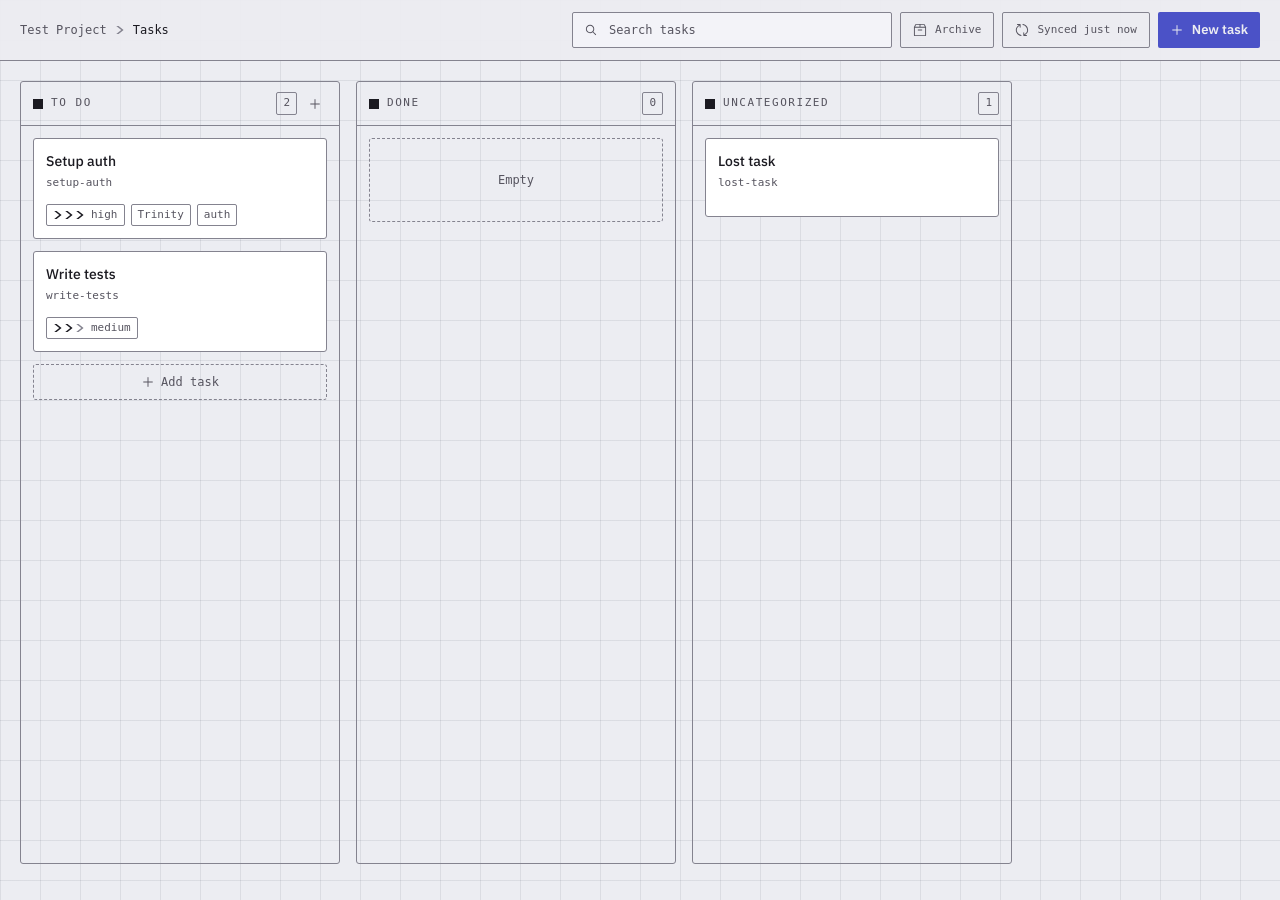
Scenario: Board › adds a task update from writable detail mode
The image size is (1280, 900).
Click the heading "Setup auth" at x=81, y=161, box [46, 152, 116, 170]
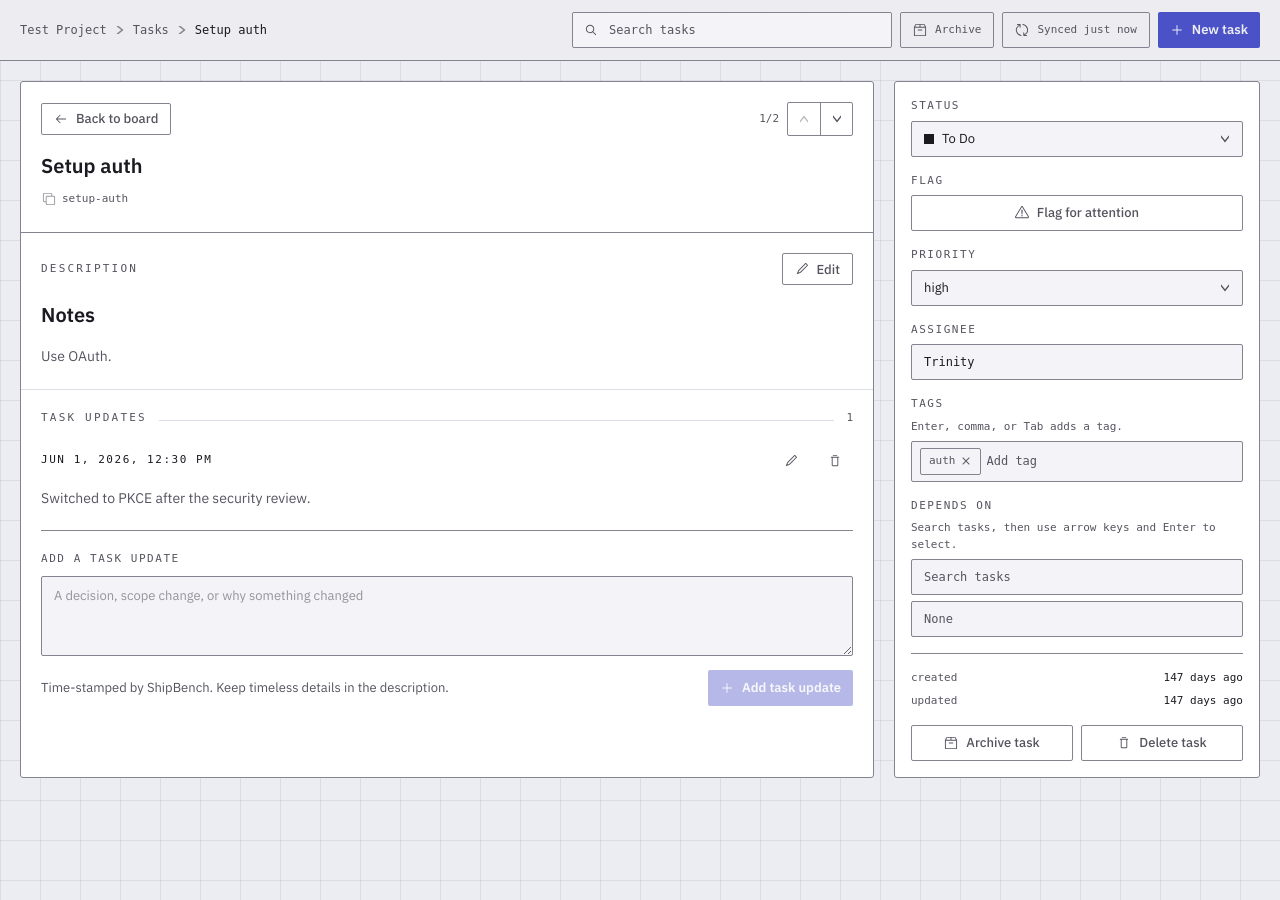
Type "Scope changed after review." into the text box named "Task update text" at x=447, y=616, box [41, 576, 853, 656]
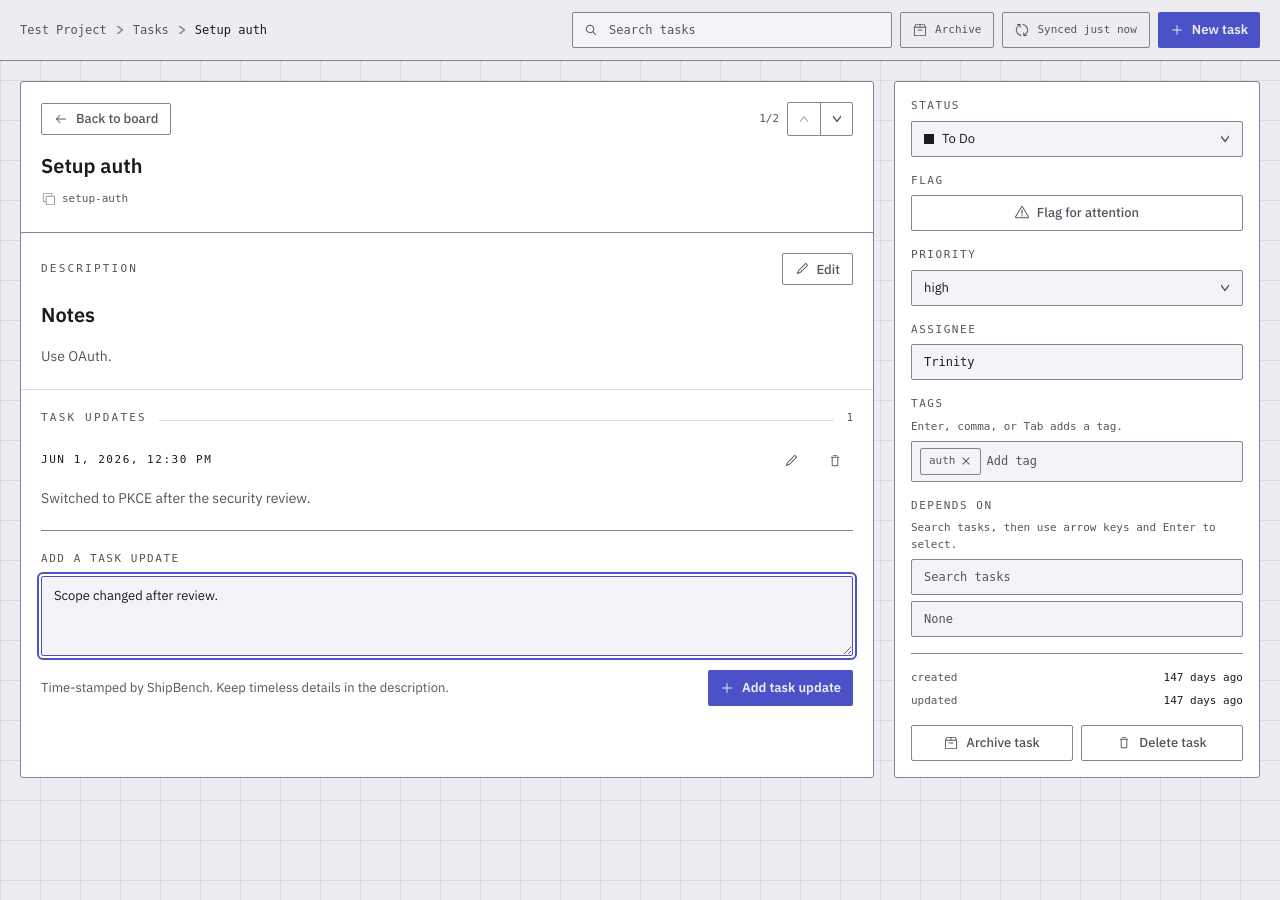
Click the button "Add task update" at x=781, y=688, box [708, 670, 853, 706]
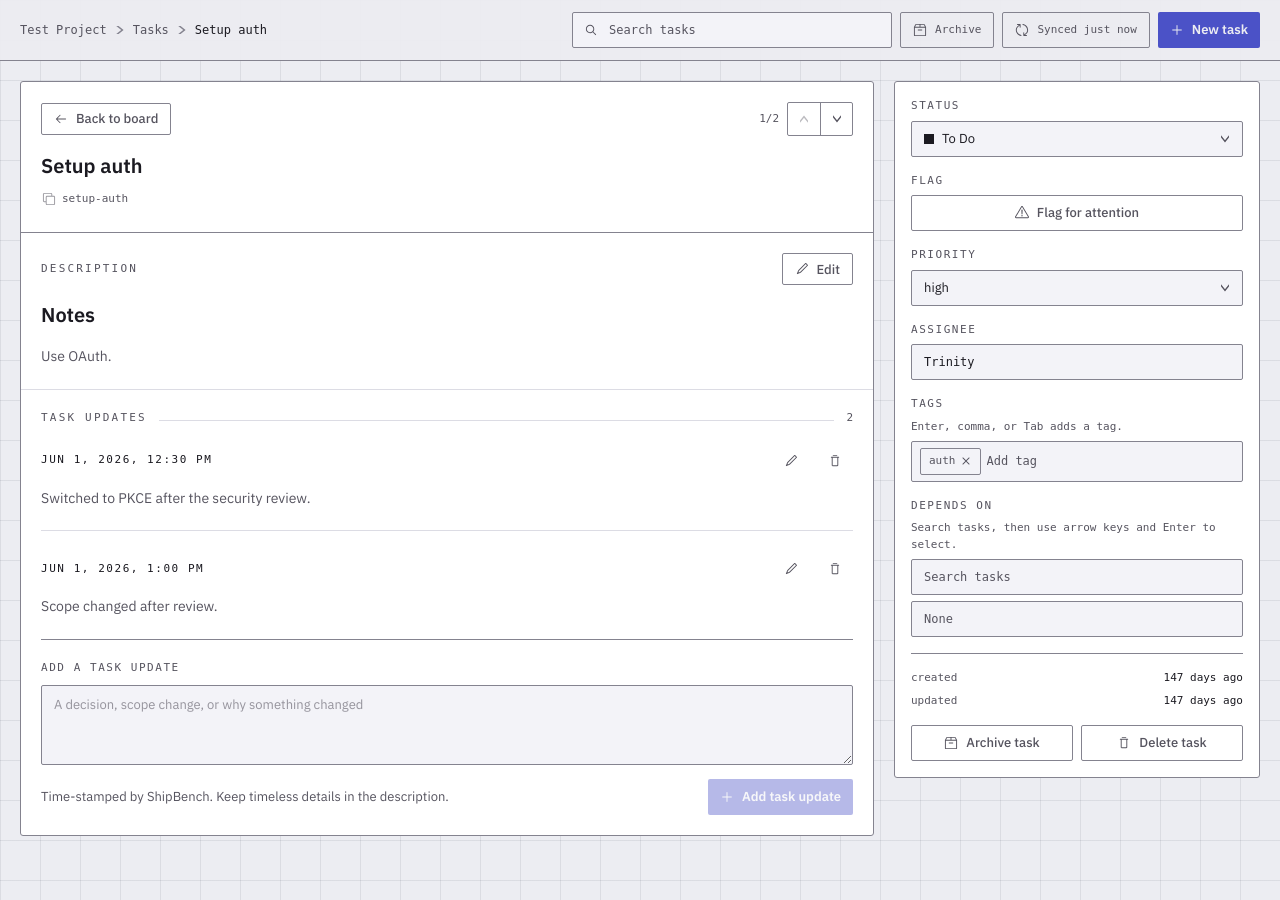
Expected: the text box named "Task update text" is enabled, [41, 685, 853, 765]
Expected: the text "Scope changed after review." is shown, [41, 597, 218, 615]
